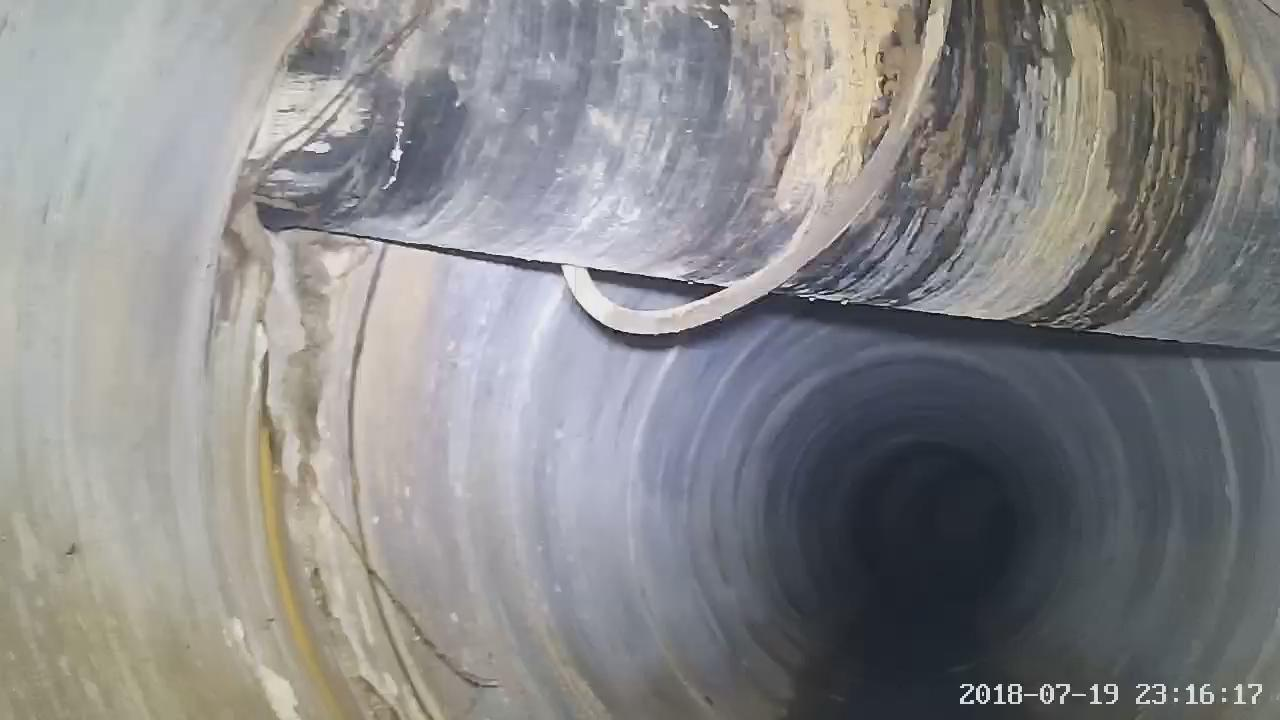YWCR: (247, 0, 1279, 350)
